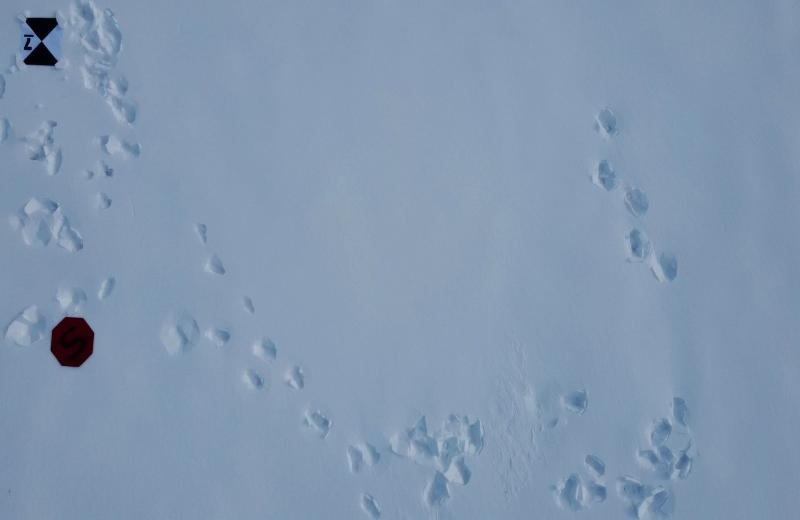Octagon: (49, 315, 95, 368)
